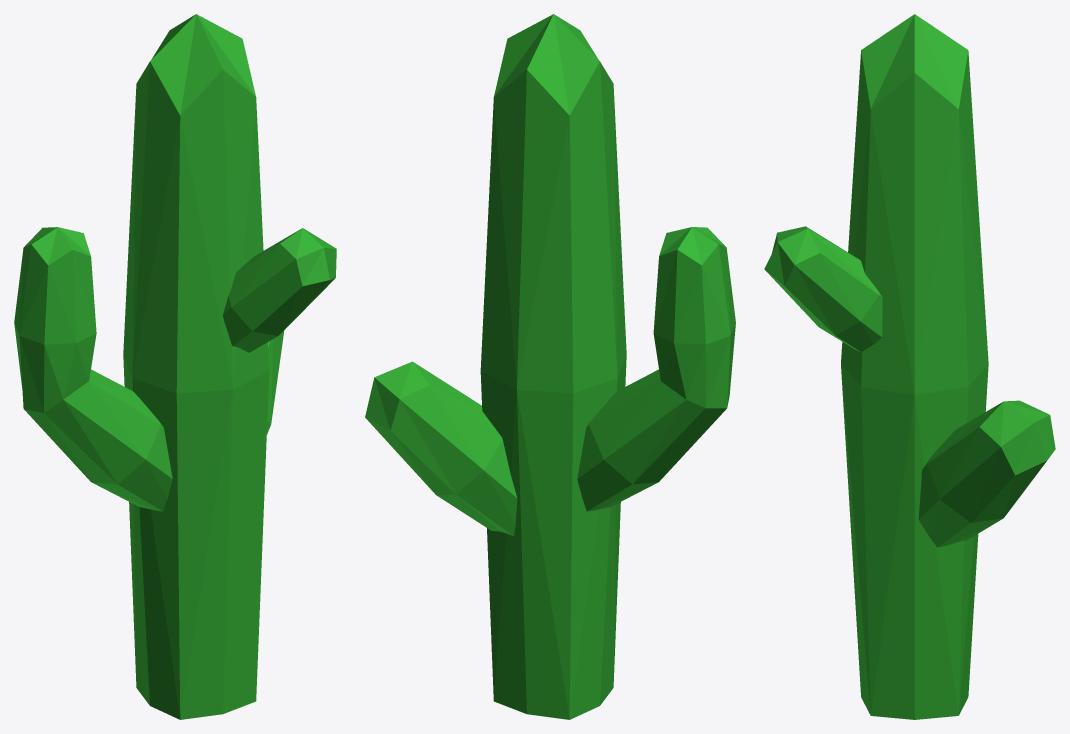
File: Cactus.glb
3 renders of one model, left to right at view 1: azimuth 30°, elevation 25°; view 2: azimuth 150°, elevation 25°; view 3: azimuth 270°, elevation 25°, orthographic.
Visible parts, largest first — view 1: Cactus; view 2: Cactus; view 3: Cactus.
Part boxes in pixels (x1,y1,x2,y2): Cactus: (14,14,336,719); Cactus: (365,14,735,719); Cactus: (764,14,1055,719).
Bounding box in the file's own units: 1.28 × 2.68 × 1.04.
1 material, 1 textured.
